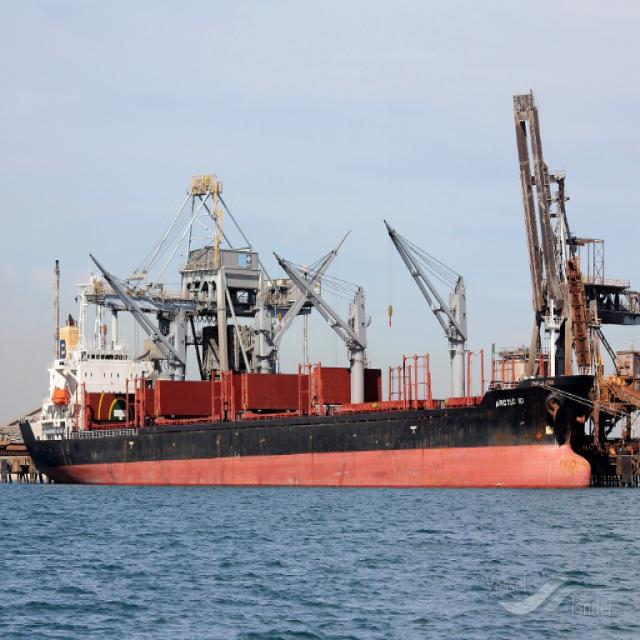OCR: (489, 395, 528, 414)
